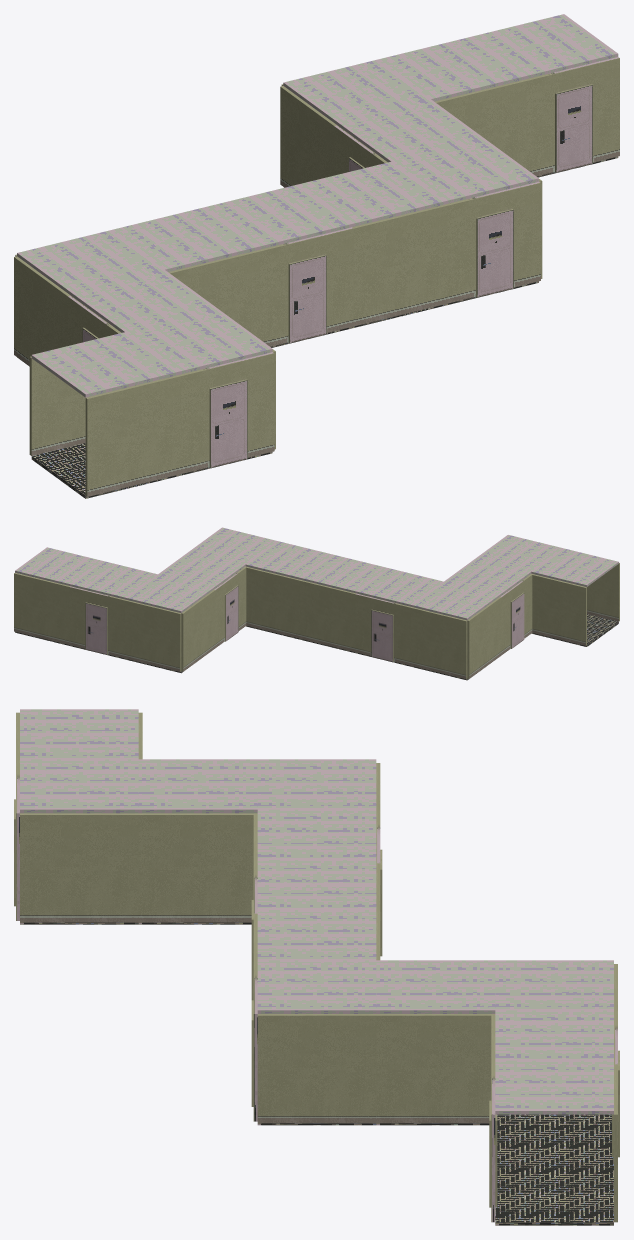
The model's file is cruise_ship.glb.
The picture shows the model from 3 angles, top to bottom: view 1: azimuth 30°, elevation 25°; view 2: azimuth 150°, elevation 25°; view 3: azimuth 270°, elevation 25°; orthographic projection. The views are drawn at different scales.
Visible parts, largest first — view 1: base_wall.008, base_wall.016, base_wall_with_door.004, base_wall_with_door.002, base_wall_with_door.008, base_wall_with_door.006, base_ceiling.004, base_ceiling.007, base_ceiling.005, base_ceiling.001, base_ceiling.010, base_ceiling.011 (+18 smaller); view 2: base_wall.003, base_wall.011, base_wall.009, base_wall.001, base_wall.007, base_wall.015, base_wall_with_door.001, base_wall_with_door.005, base_wall.005, base_wall.013, base_ceiling.004, base_ceiling.012 (+18 smaller); view 3: base_wall.014, base_wall.006, base_wall.004, base_wall.012, base_ceiling.003, base_ceiling.005, base_ceiling.007, base_ceiling.009, base_ceiling.011, base_floor.007, base_ceiling.006, base_ceiling.002 (+9 smaller).
Boxes of the visible parts, x1=… form: base_wall.008: x1=85, y1=375, x2=180, y2=496; base_wall.016: x1=352, y1=204, x2=447, y2=326; base_wall_with_door.004: x1=180, y1=352, x2=274, y2=473; base_wall_with_door.002: x1=258, y1=227, x2=353, y2=346; base_wall_with_door.008: x1=446, y1=181, x2=540, y2=303; base_wall_with_door.006: x1=525, y1=57, x2=619, y2=176; base_ceiling.004: x1=31, y1=332, x2=179, y2=397; base_ceiling.007: x1=471, y1=14, x2=618, y2=79; base_ceiling.005: x1=125, y1=309, x2=272, y2=374; base_ceiling.001: x1=205, y1=184, x2=351, y2=249; base_ceiling.010: x1=298, y1=161, x2=445, y2=226; base_ceiling.011: x1=392, y1=139, x2=538, y2=204; base_wall.003: x1=411, y1=607, x2=467, y2=679; base_wall.011: x1=125, y1=600, x2=181, y2=671; base_wall.009: x1=14, y1=572, x2=69, y2=644; base_wall.001: x1=300, y1=580, x2=355, y2=651; base_wall.007: x1=530, y1=573, x2=586, y2=645; base_wall.015: x1=244, y1=566, x2=300, y2=638; base_wall_with_door.001: x1=355, y1=593, x2=411, y2=665; base_wall_with_door.005: x1=69, y1=586, x2=125, y2=658; base_wall.005: x1=467, y1=597, x2=501, y2=678; base_wall.013: x1=181, y1=590, x2=215, y2=671; base_ceiling.004: x1=531, y1=548, x2=618, y2=586; base_ceiling.012: x1=126, y1=574, x2=213, y2=613; base_wall.014: x1=257, y1=1014, x2=376, y2=1123; base_wall.006: x1=20, y1=813, x2=138, y2=922; base_wall.004: x1=138, y1=813, x2=257, y2=922; base_wall.012: x1=376, y1=1014, x2=495, y2=1123; base_ceiling.003: x1=138, y1=759, x2=257, y2=813; base_ceiling.005: x1=20, y1=759, x2=138, y2=813; base_ceiling.007: x1=495, y1=1060, x2=613, y2=1114; base_ceiling.009: x1=376, y1=960, x2=495, y2=1013; base_ceiling.011: x1=257, y1=960, x2=376, y2=1013; base_floor.007: x1=495, y1=1172, x2=613, y2=1225; base_ceiling.006: x1=257, y1=759, x2=376, y2=809; base_ceiling.002: x1=257, y1=809, x2=376, y2=859.
Size of the model in its own units: 24 by 3.2 by 15.3.
Materials: 5 (5 with a texture image).
